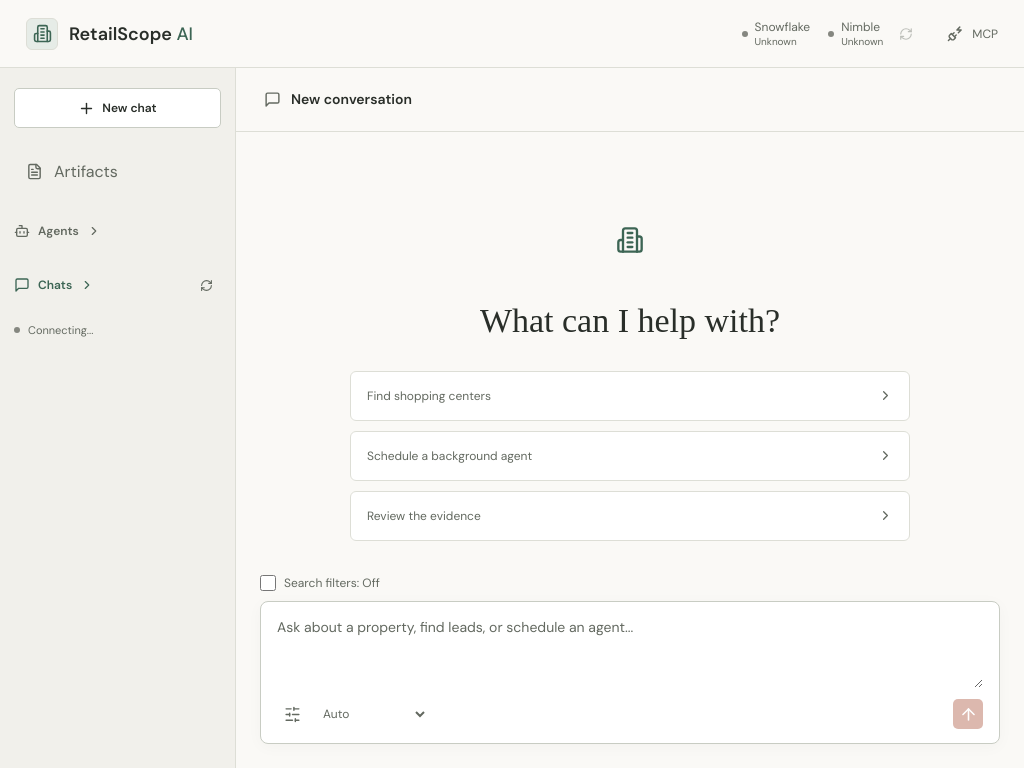
chat-first workspace › never applies research filters to a schedule draft
Click the checkbox labelled "Search filters: Off" at coordinates (268, 583), box [260,575,276,591]
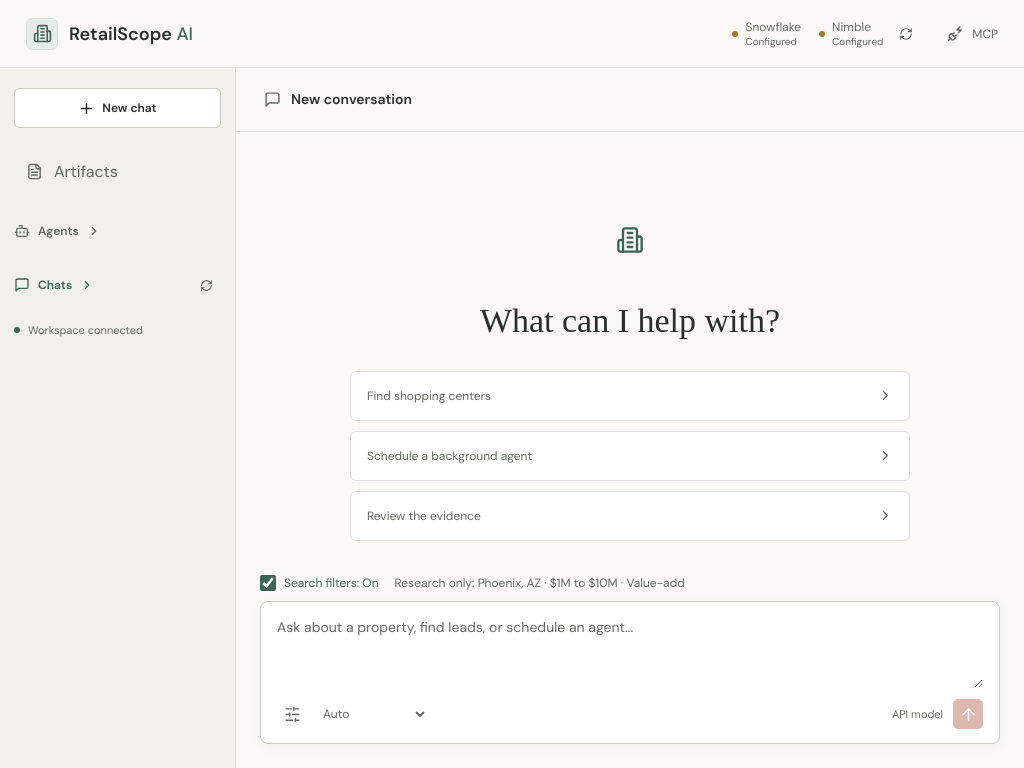
Result: the text "Workspace connected" is shown at [14,323,143,337]
Type "Monitor retail properties daily" into the text box named "Message RetailScope" at coordinates (630, 652), box [277,616,983,688]
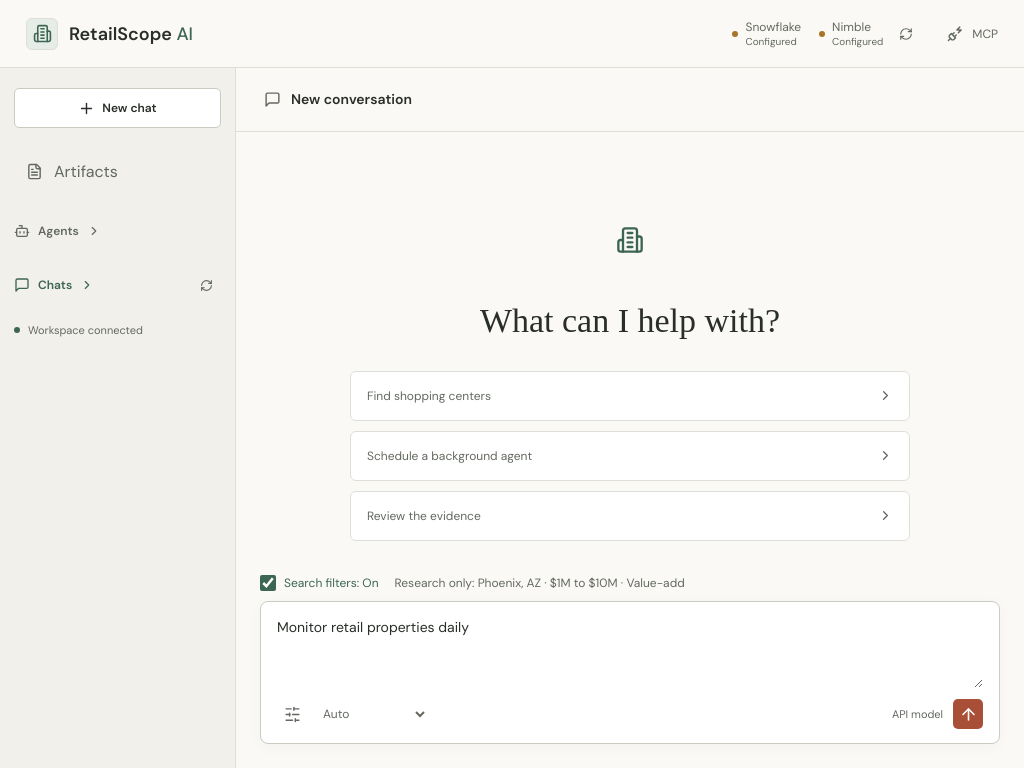
Click the button named "Send message" at coordinates (968, 714), box [953,699,983,729]
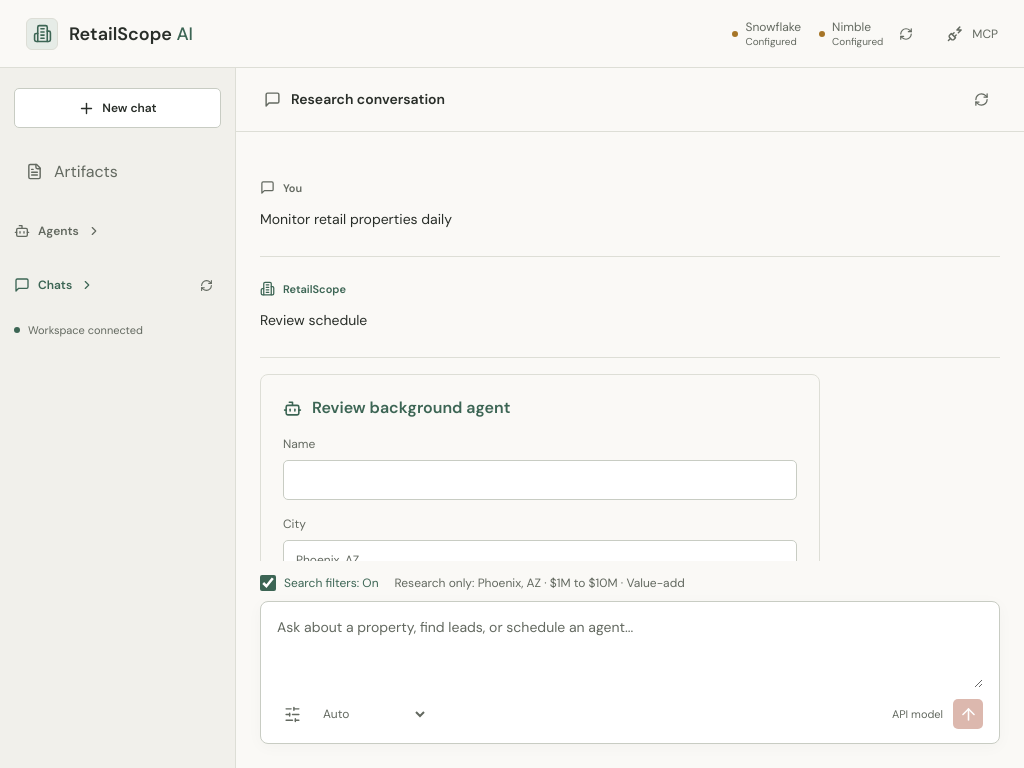
Result: the text "Review schedule" is shown at [260,311,367,329]
